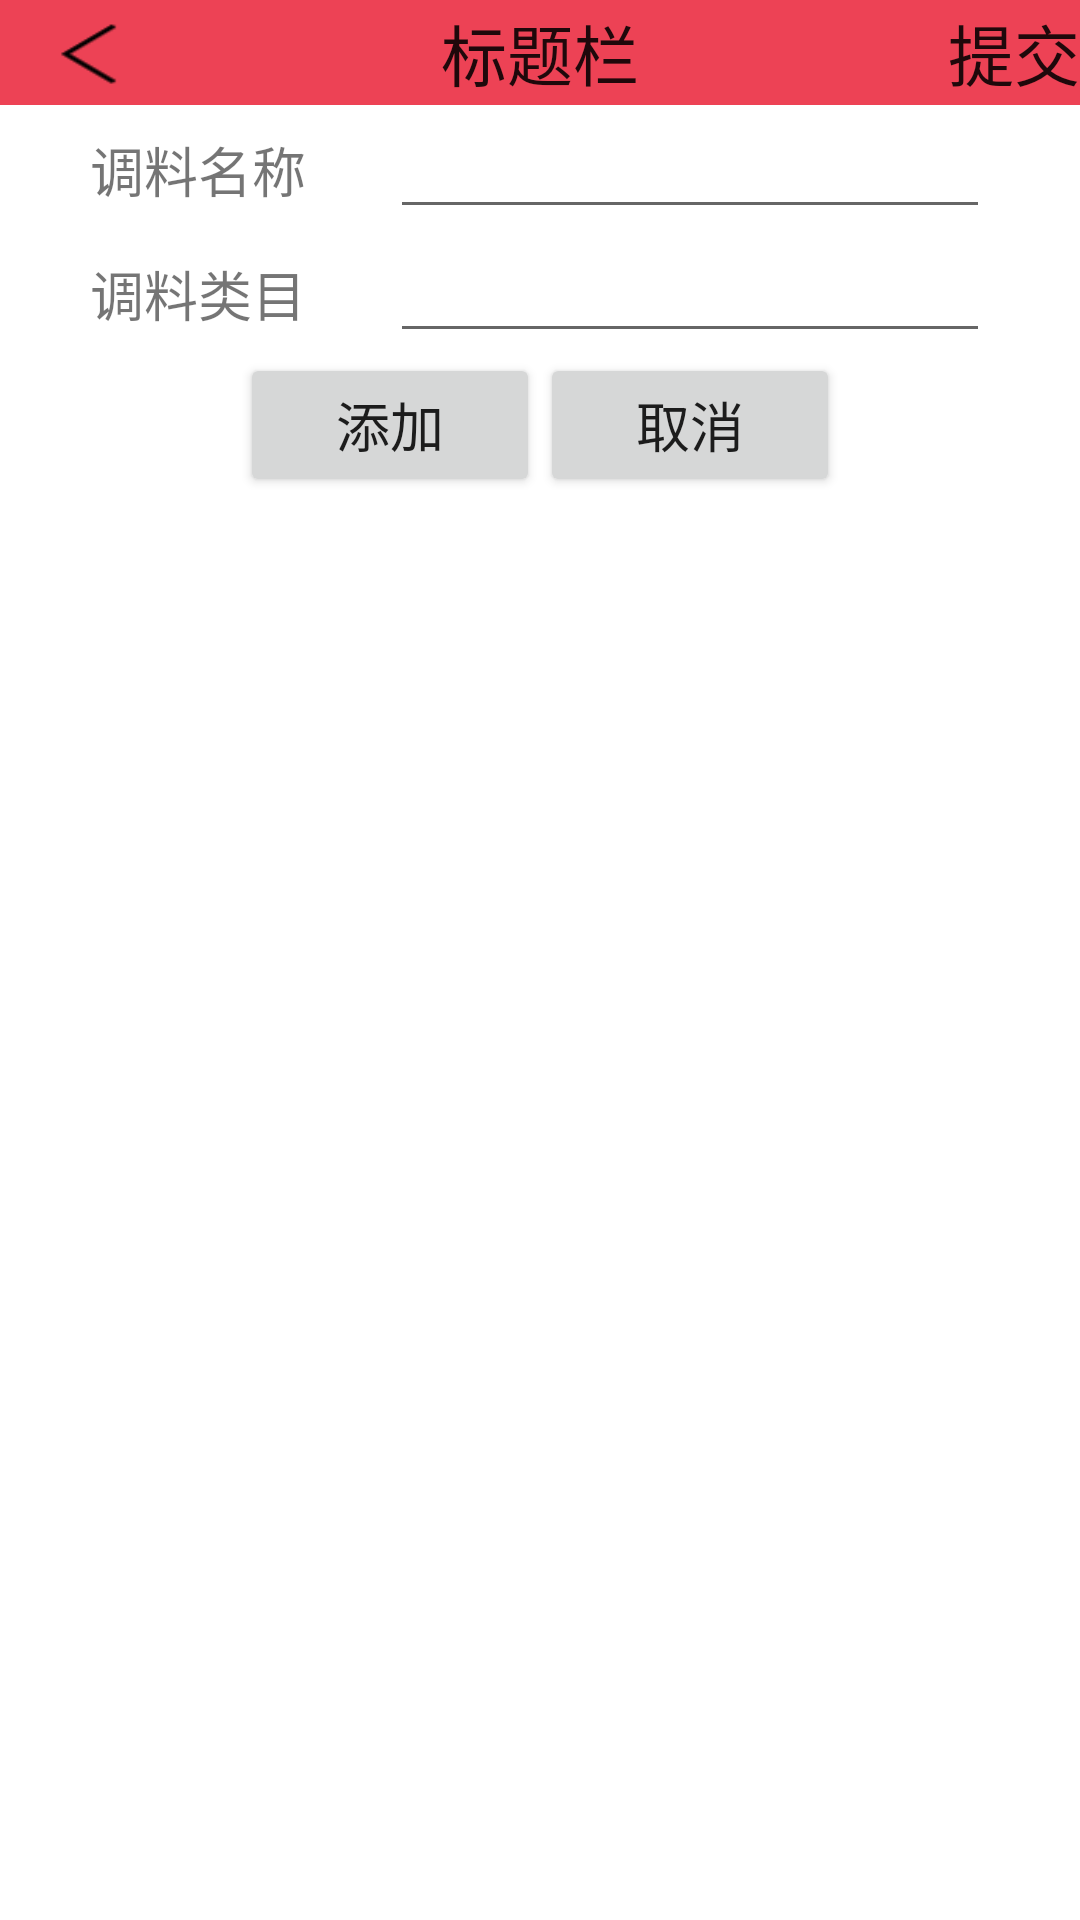

Where icons sit on this 1080×1920 app screen, as (x1, y1, x2, y2):
back arrow: (61, 24, 116, 84)
